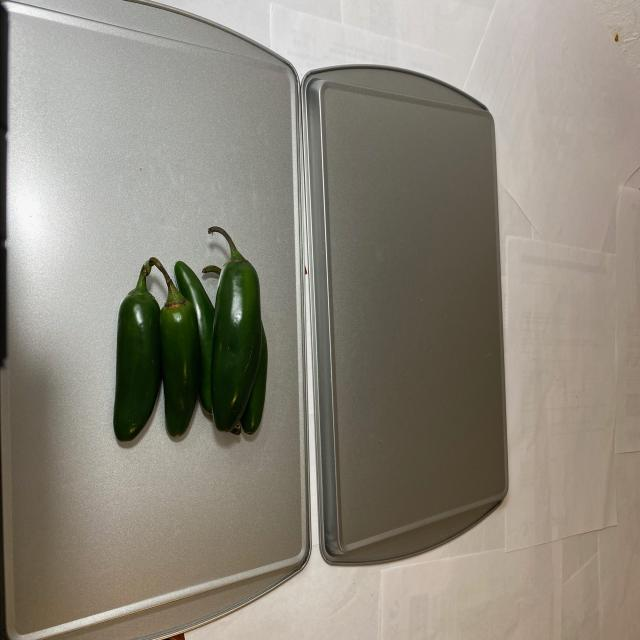chilli: (96, 218, 277, 463)
